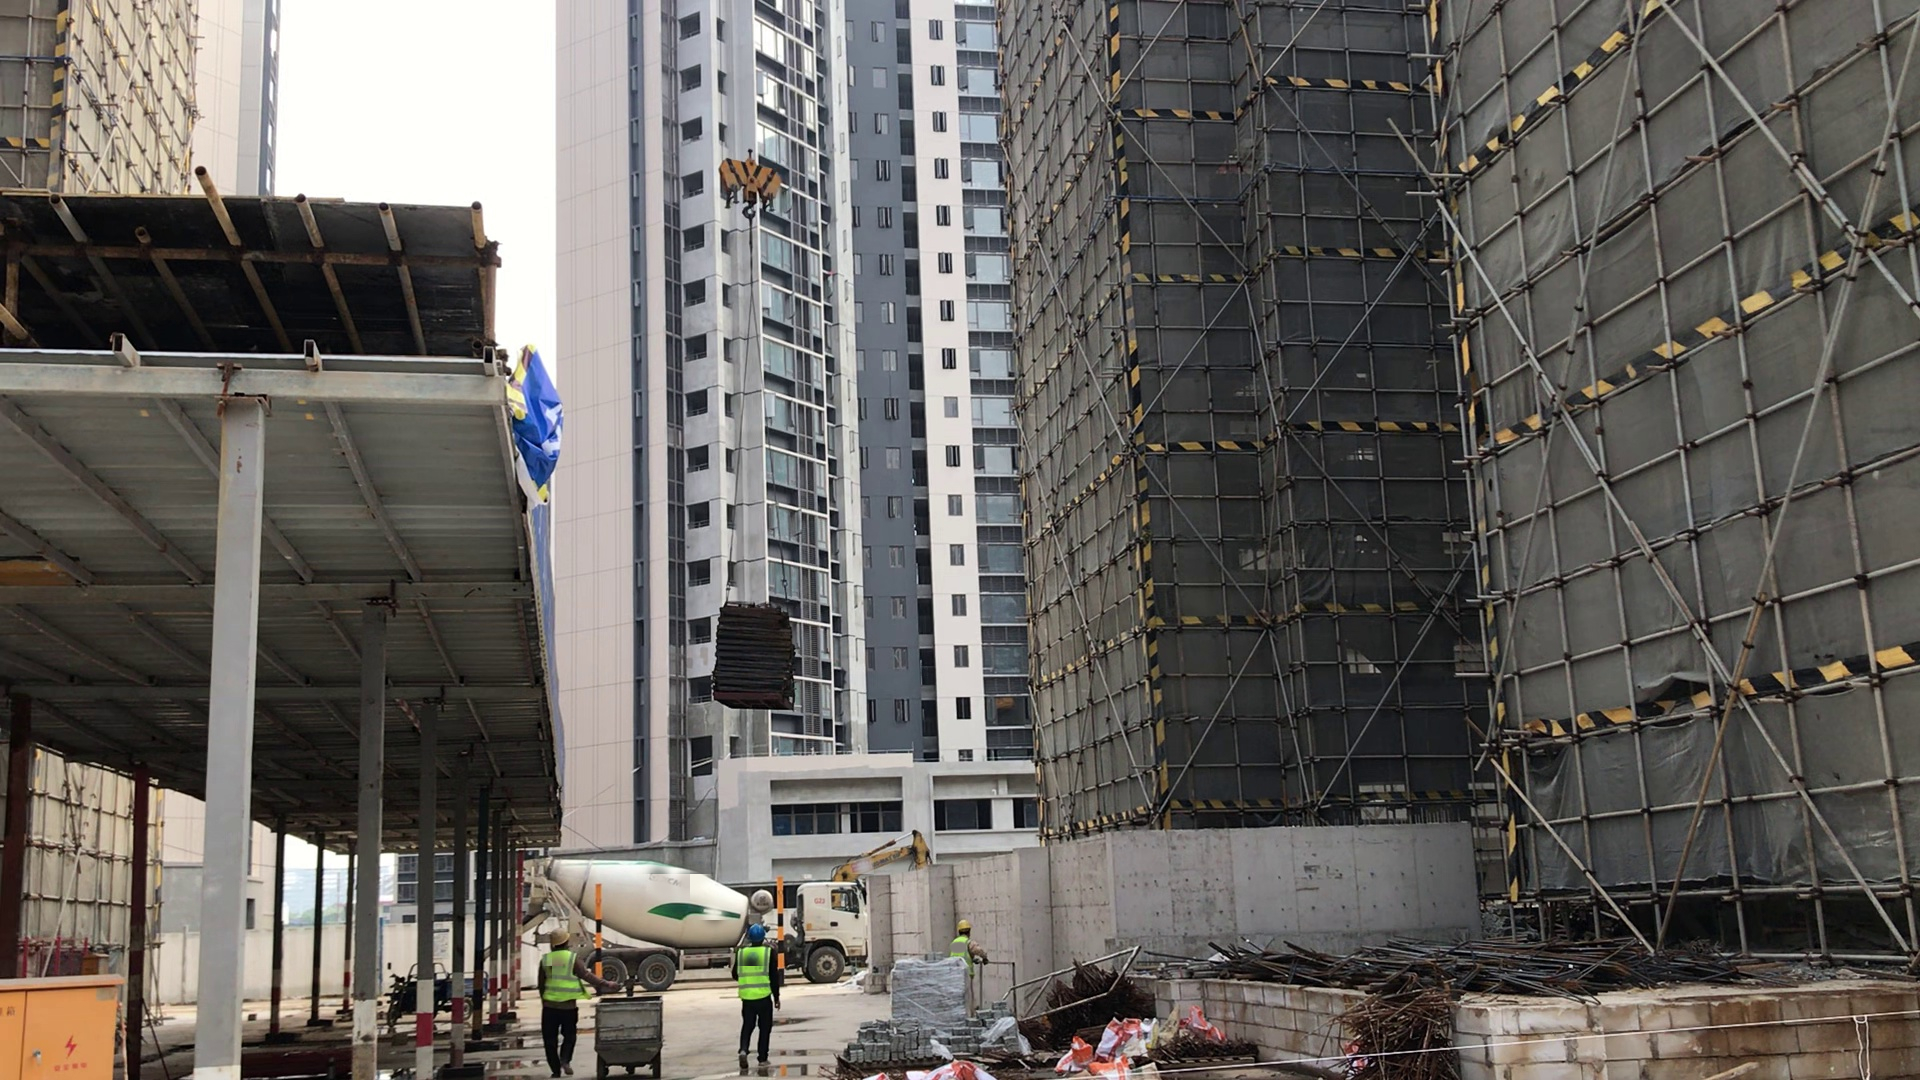brick: (838, 1006, 1000, 1075)
helmet: (547, 926, 576, 953), (744, 923, 770, 944), (954, 920, 971, 943)
hook: (713, 156, 792, 213)
person: (533, 925, 601, 1080), (727, 912, 789, 1080), (942, 906, 997, 980)
vest: (737, 943, 779, 1005), (542, 953, 594, 1003), (952, 933, 975, 962)
